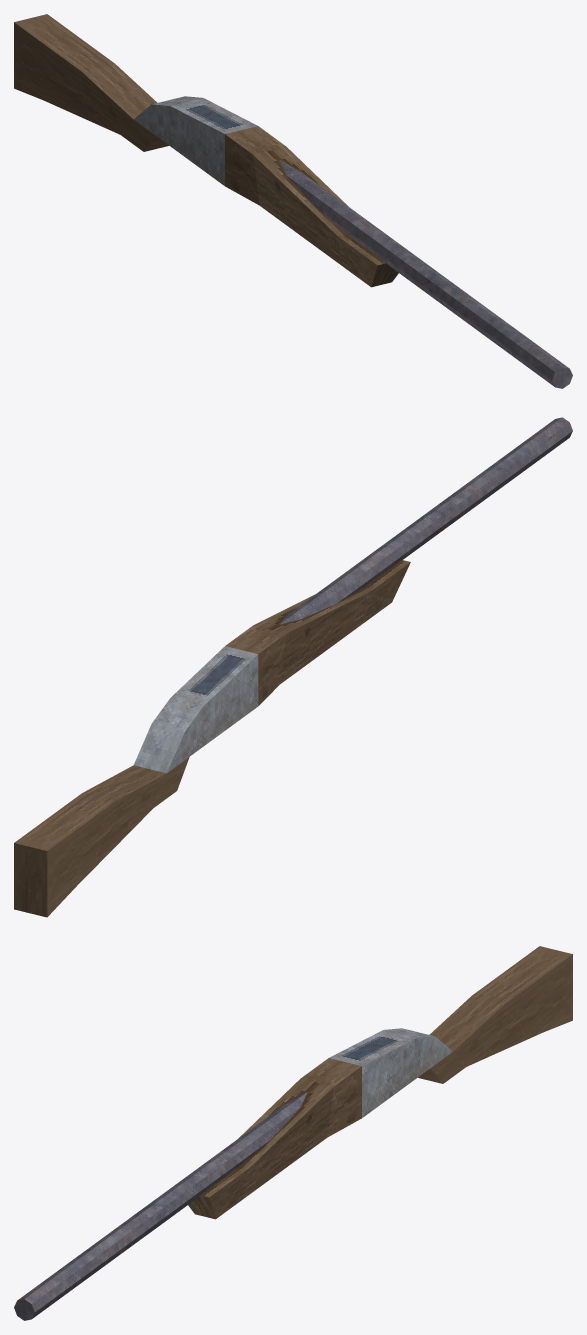
Rendered from GunModel.glb.
3 renders of one model, top to bottom at view 1: azimuth 30°, elevation 25°; view 2: azimuth 150°, elevation 25°; view 3: azimuth 330°, elevation 25°, orthographic.
Visible parts, largest first — view 1: Stock, Handle, Barrel_STD, FM_STD; view 2: Stock, FM_STD, Barrel_STD, Handle; view 3: Stock, Handle, Barrel_STD, FM_STD.
Boxes of the visible parts, left/top/right/bottom form: Stock: left=14, top=14, right=168, bottom=151; Handle: left=225, top=126, right=398, bottom=287; Barrel_STD: left=279, top=160, right=572, bottom=388; FM_STD: left=134, top=96, right=257, bottom=185; Stock: left=14, top=757, right=189, bottom=917; FM_STD: left=134, top=646, right=258, bottom=773; Barrel_STD: left=279, top=417, right=572, bottom=624; Handle: left=225, top=560, right=410, bottom=705; Stock: left=418, top=946, right=572, bottom=1083; Handle: left=188, top=1058, right=361, bottom=1219; Barrel_STD: left=14, top=1092, right=307, bottom=1320; FM_STD: left=329, top=1028, right=452, bottom=1117.
Size of the model in its own units: 1.6 by 5 by 44.25.
Materials: 1 (1 with a texture image).
